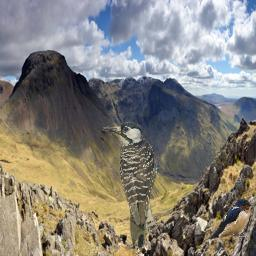Swallow: (206, 198, 254, 240)
Woodpecker: (103, 122, 168, 254)
